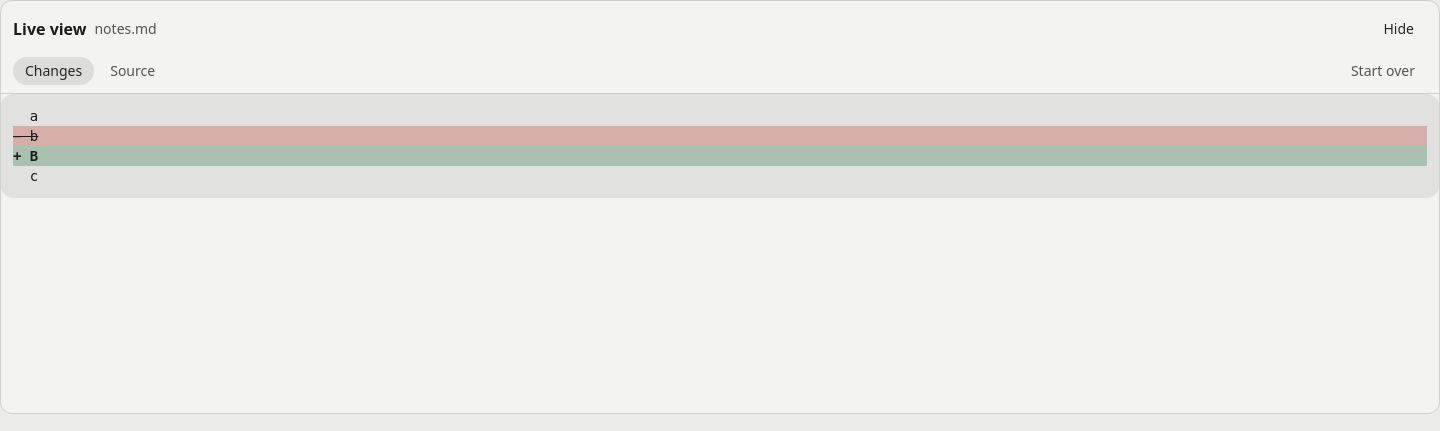
it: FilePreview › polls and shows edits, then Start over resets the baseline
Later steps or results of the test are not shown.
Expected: the element named "Changes since you opened the lesson" shows "− b", [13,128,38,144]
Expected: the element named "Changes since you opened the lesson" shows "+ B", [13,148,38,164]
Click the button "Start over" at [1383, 71], box [1339,57,1427,85]
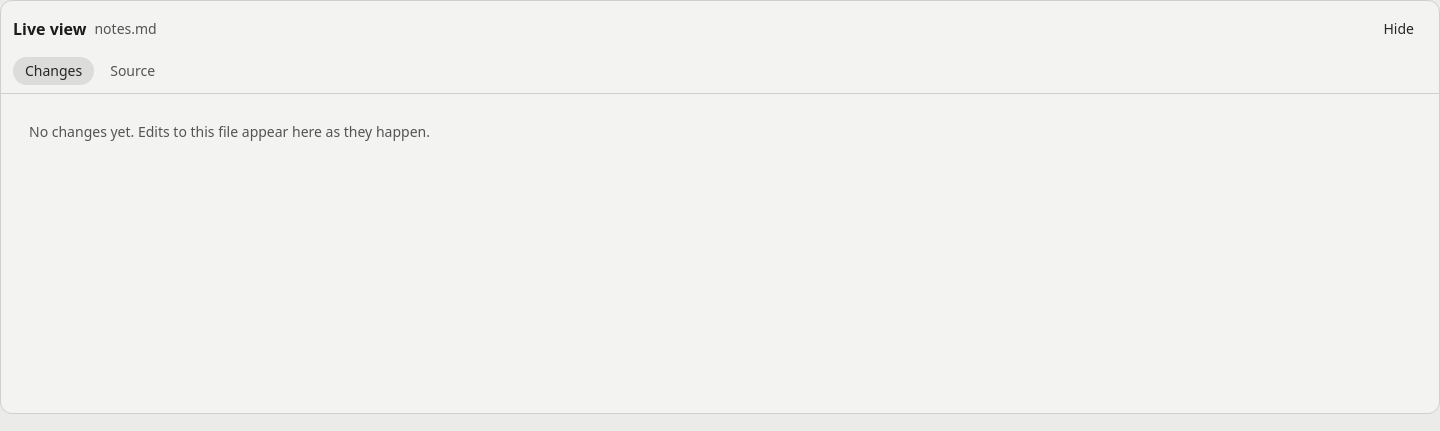
Expected: the text "No changes yet" is shown, [29,122,430,141]
